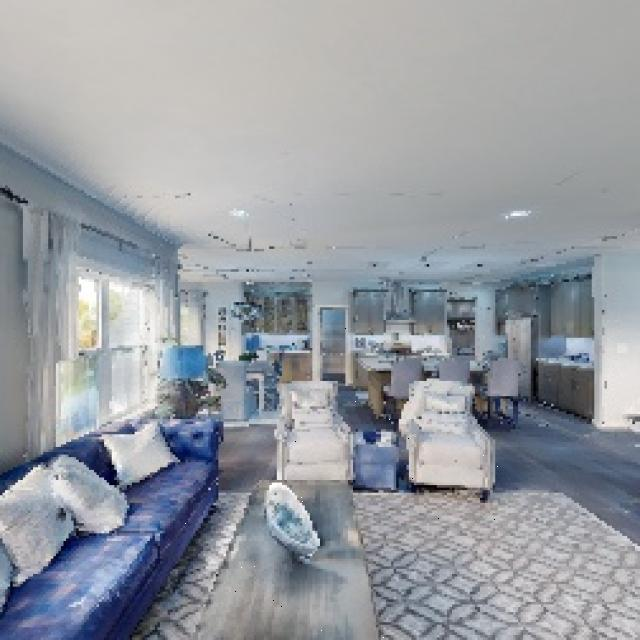door-frame: (312, 302, 354, 388)
sofa: (0, 393, 246, 640), (385, 378, 504, 523), (272, 378, 362, 494)
table: (168, 465, 386, 640)
